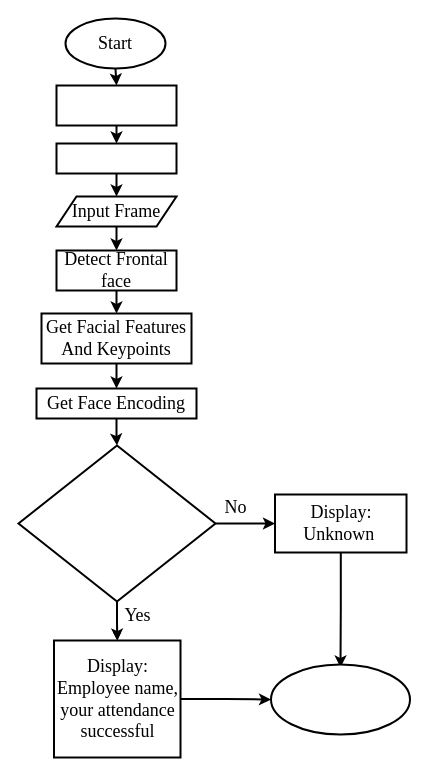
Some shapes in this 428 by 775 pixel diagram are drawn without their labels. The centre of each missing label's shape, as x and y in pixels:
Camera: pixel 116 158
Exit: pixel 340 699
Is encoding match with stored encoding?: pixel 116 523
Web Interface: pixel 116 105
